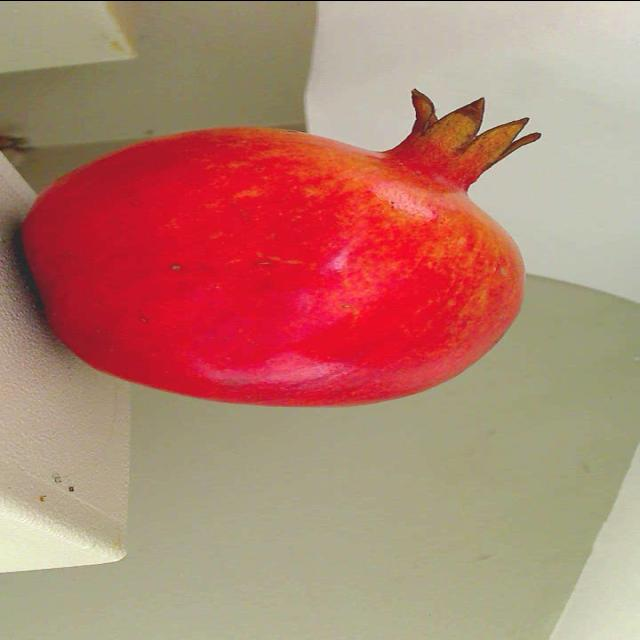pomegranate: (0, 71, 565, 422)
